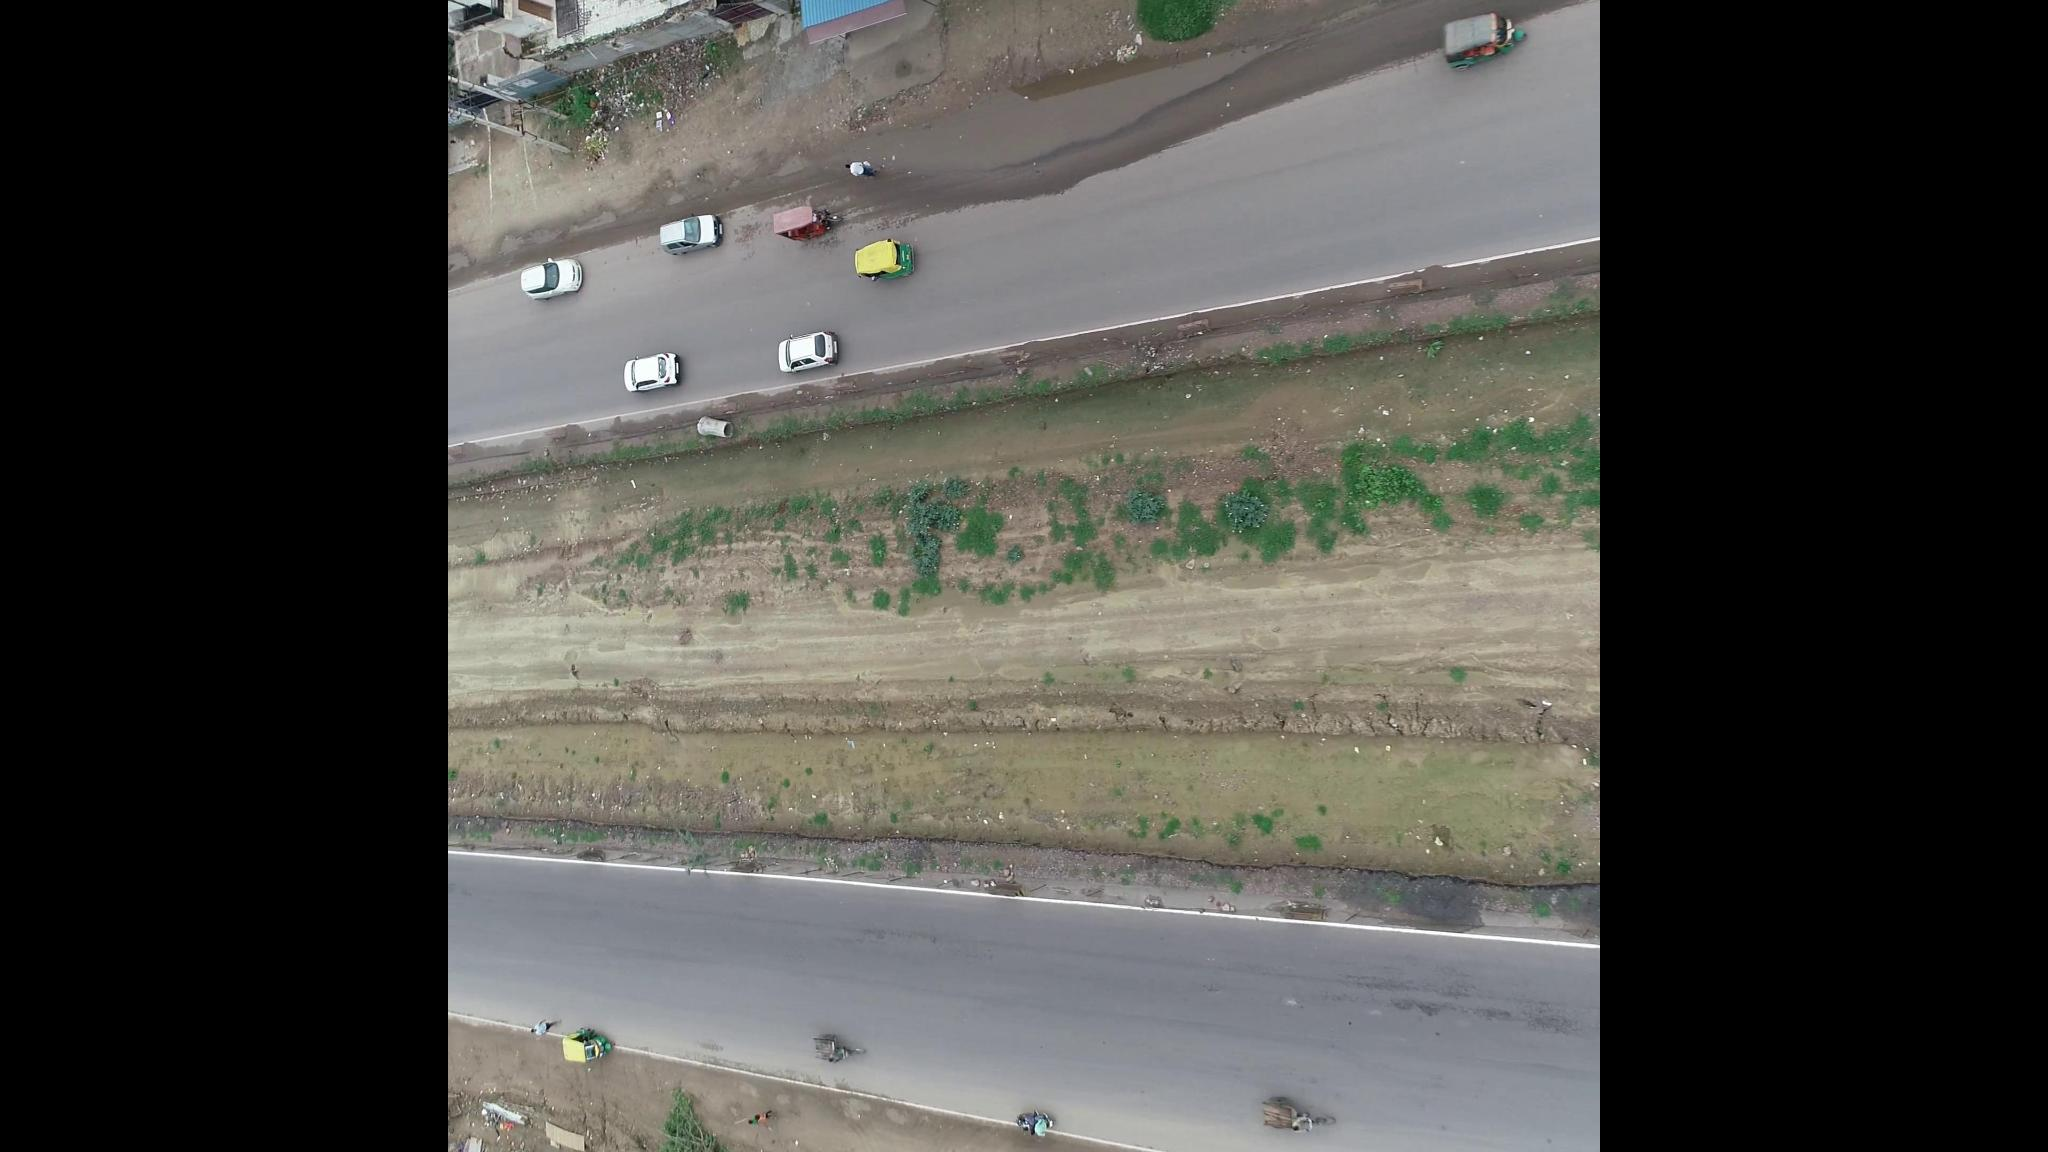Waterlogging: (940, 25, 1288, 176)
